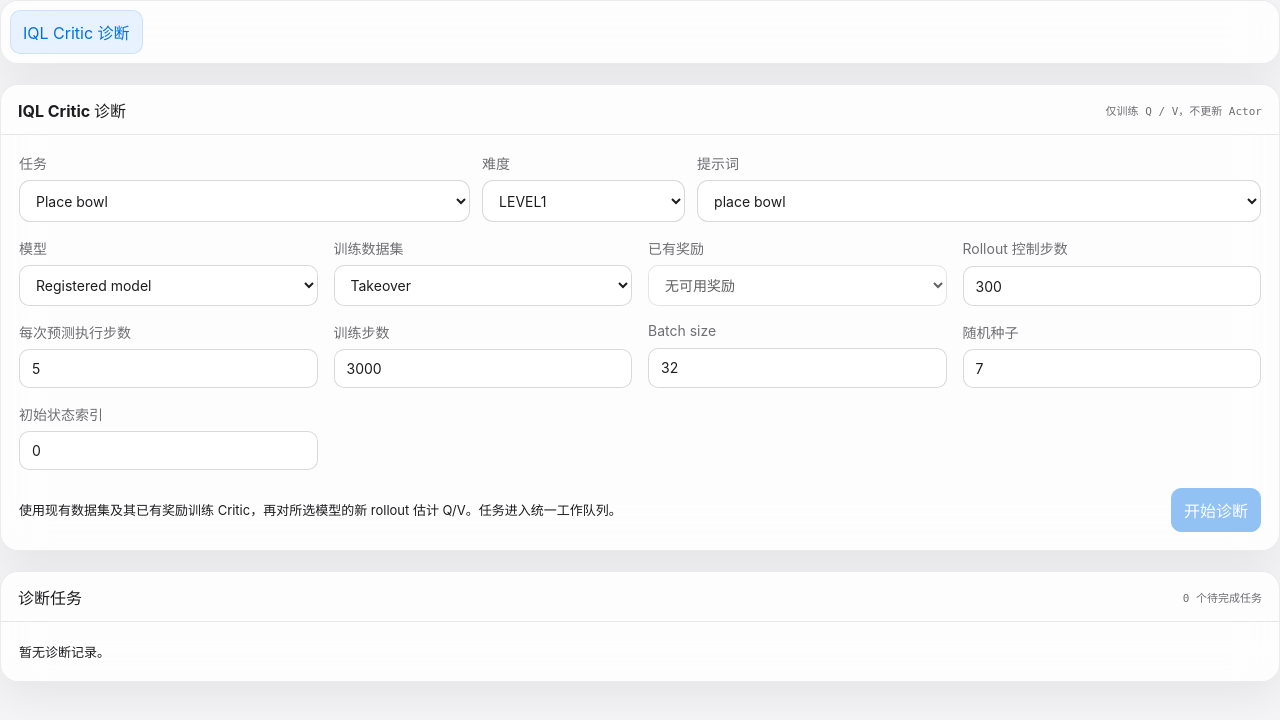
Test case: critic diagnostic tools › does not apply stale reward defaults after switching dataset
The image size is (1280, 720).
Select "Second dataset" in the dropdown labelled "训练数据集" at point(483, 286), box [334,265,632,306]
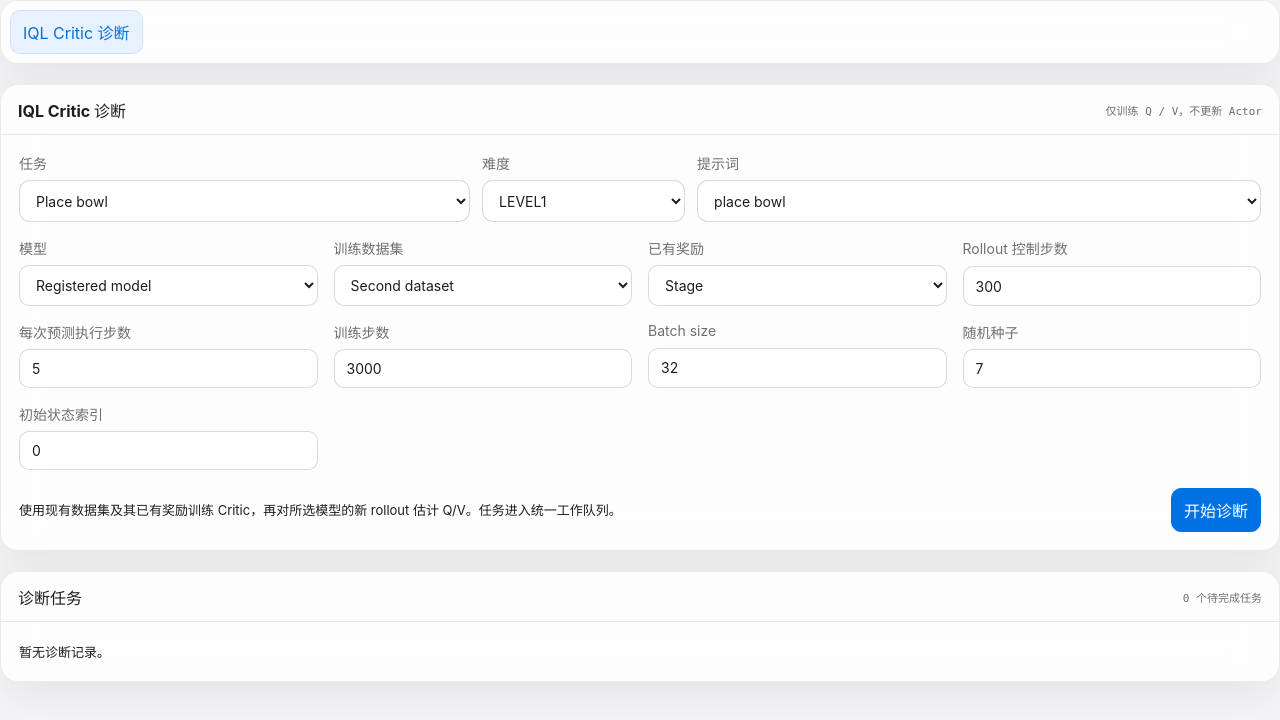
Expected: the dropdown labelled "已有奖励" shows "Stage", [648,265,946,306]
